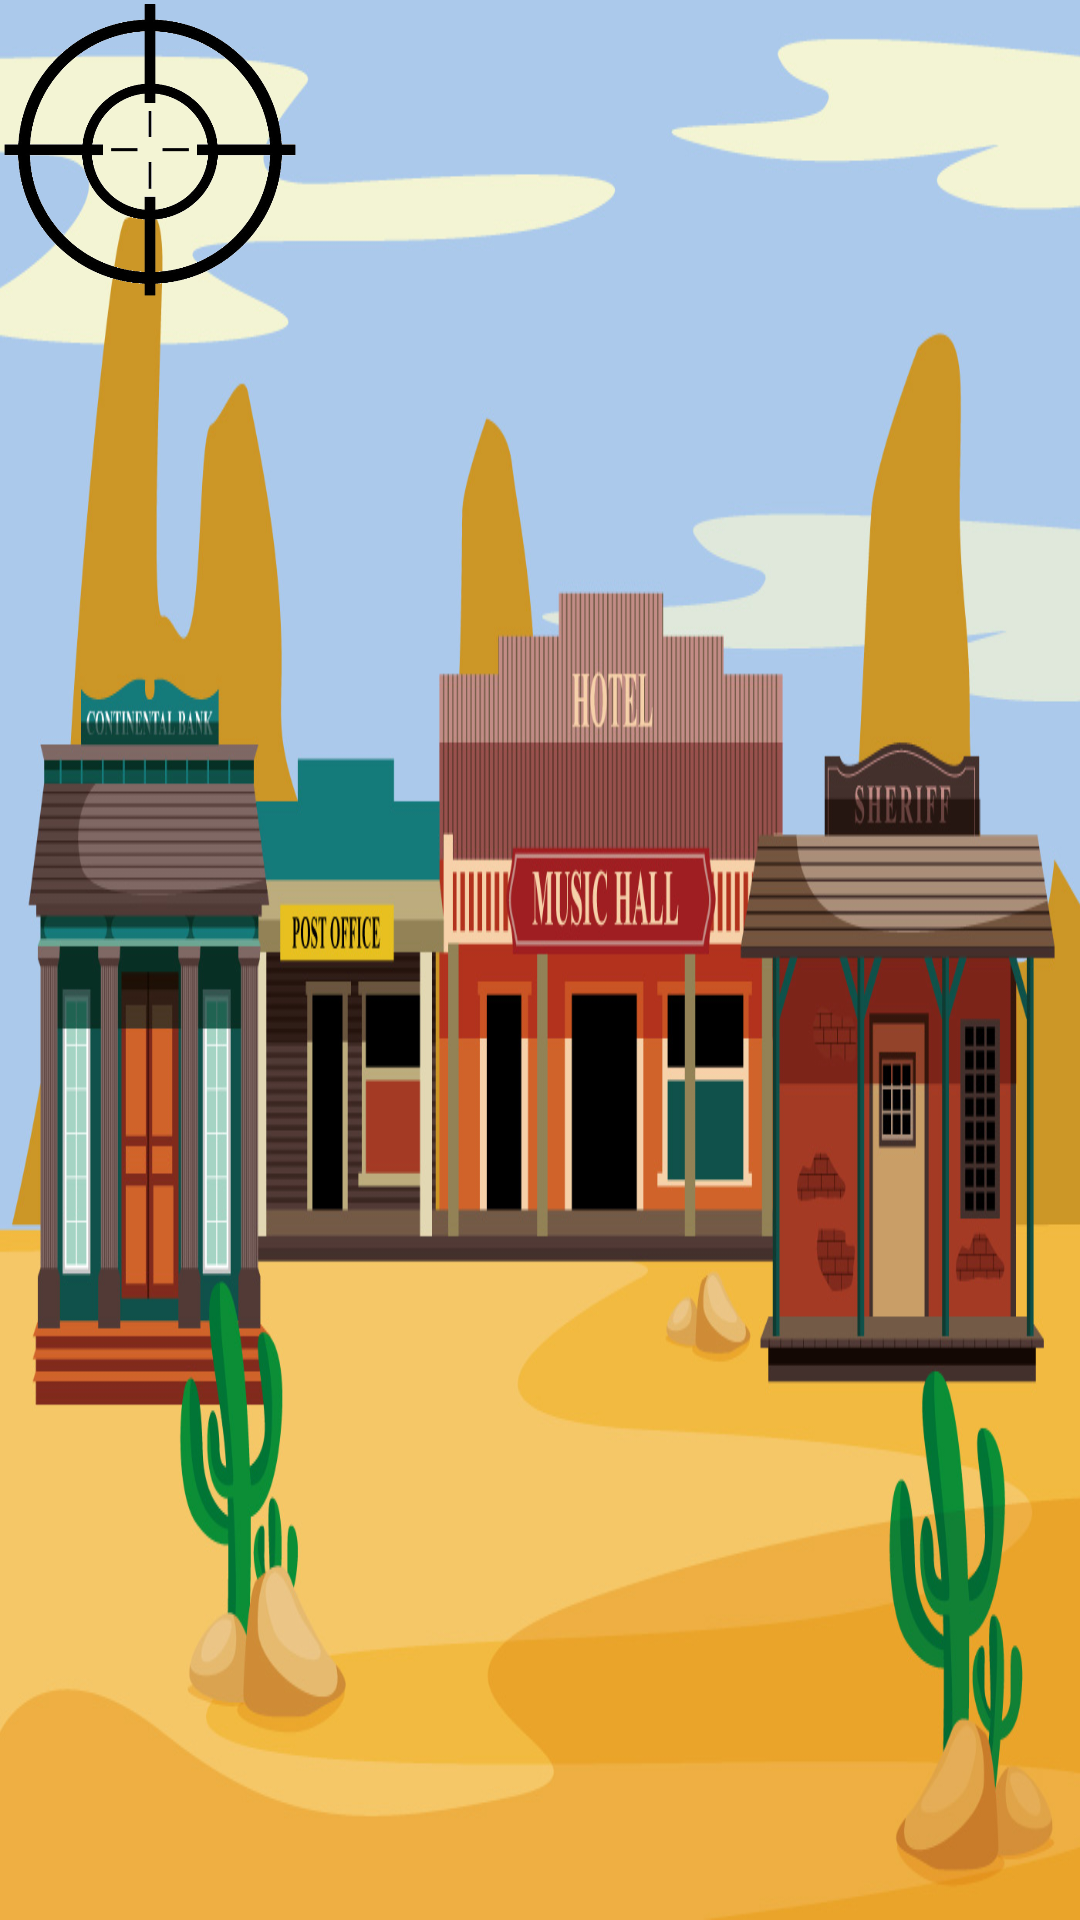

Screen size 1080 x 1920. Icon name, then its center in pixels as (x,y):
cible: (150,150)
